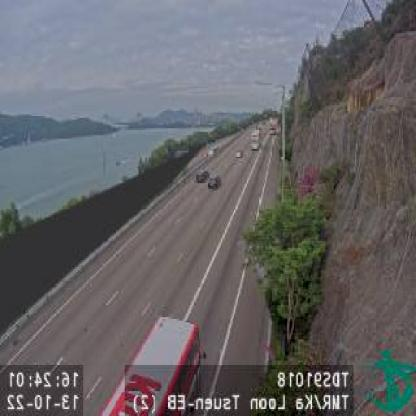Bus: (108, 314, 207, 415)
Car: (195, 166, 208, 180), (209, 176, 221, 190)
